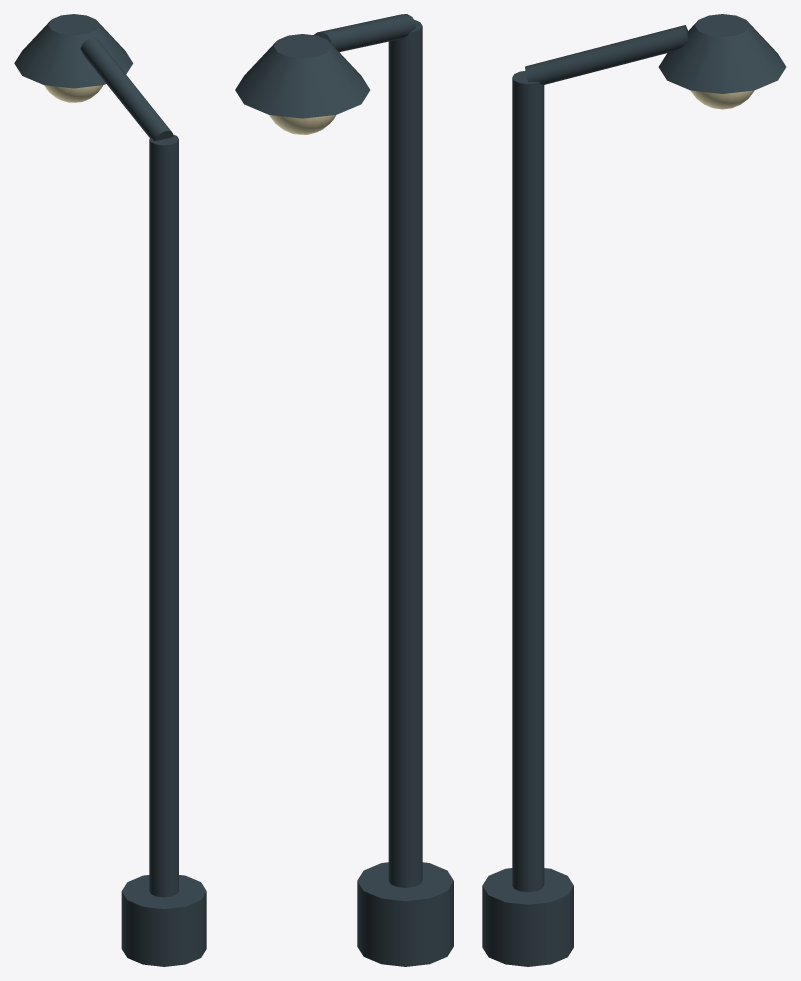
Rendered from street_lamp.fbx.
3 renders of one model, left to right at view 1: azimuth 30°, elevation 25°; view 2: azimuth 150°, elevation 25°; view 3: azimuth 270°, elevation 25°, orthographic. The views are drawn at different scales.
Parts seen in each view (by area): view 1: Street Lamp.001; view 2: Street Lamp.001; view 3: Street Lamp.001.
Boxes of the visible parts, x1,y1,x2,y2 form: Street Lamp.001: (14, 14, 206, 966); Street Lamp.001: (235, 14, 453, 966); Street Lamp.001: (482, 14, 786, 966).
Size of the model in its own units: 0.56 by 4.45 by 1.33.
